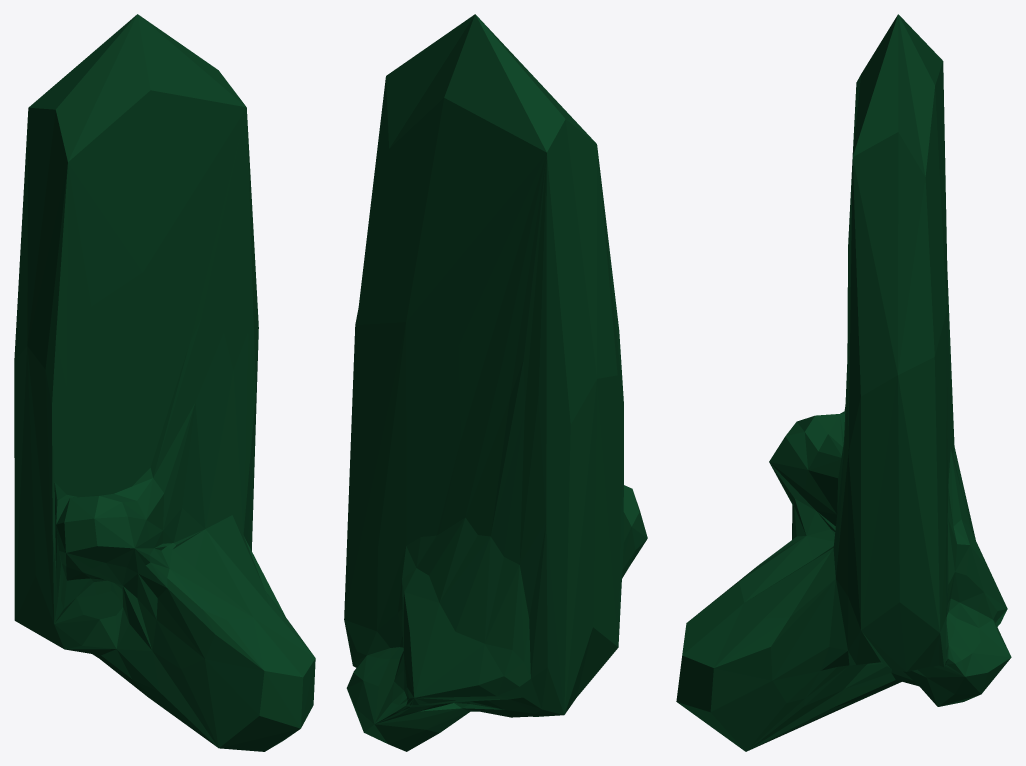
3 renders of one model, left to right at view 1: azimuth 30°, elevation 25°; view 2: azimuth 150°, elevation 25°; view 3: azimuth 270°, elevation 25°, orthographic. The views are drawn at different scales.
Visible parts, largest first — view 1: 902_Cube.3642; view 2: 902_Cube.3642; view 3: 902_Cube.3642.
Part boxes in pixels (x1,y1,x2,y2): 902_Cube.3642: [14, 14, 315, 751]; 902_Cube.3642: [344, 14, 647, 751]; 902_Cube.3642: [676, 14, 1011, 751].
Bounding box in the file's own units: 4.59 × 13.65 × 5.9.
